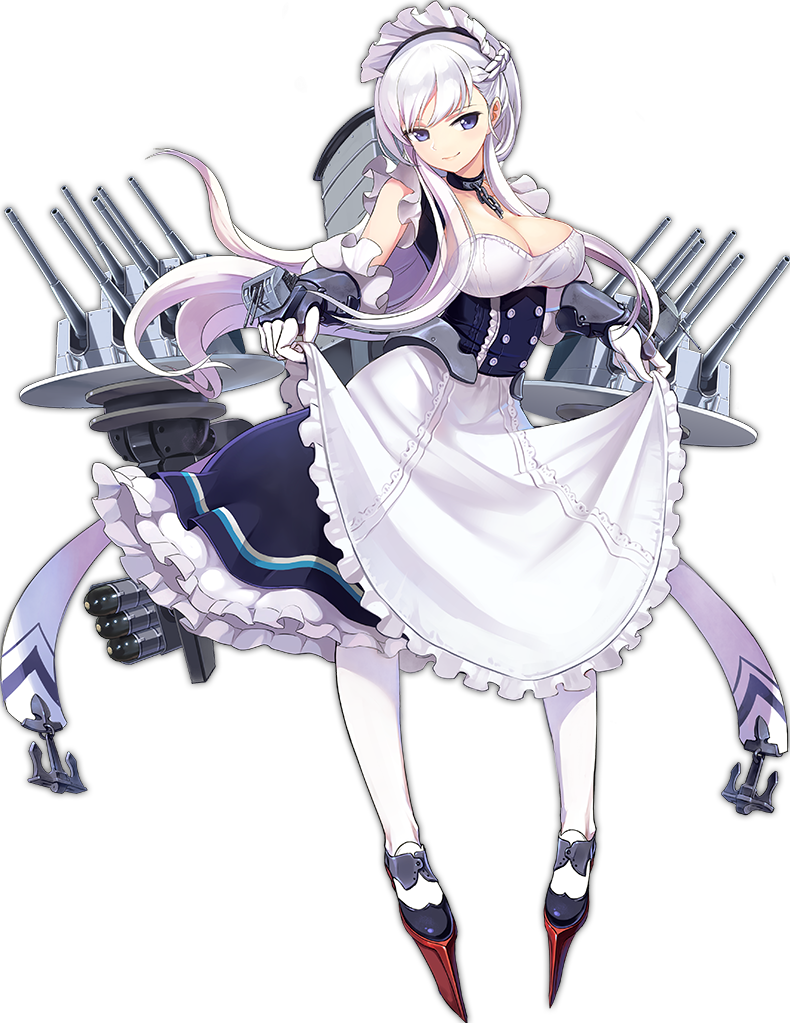person: (210, 13, 647, 743)
